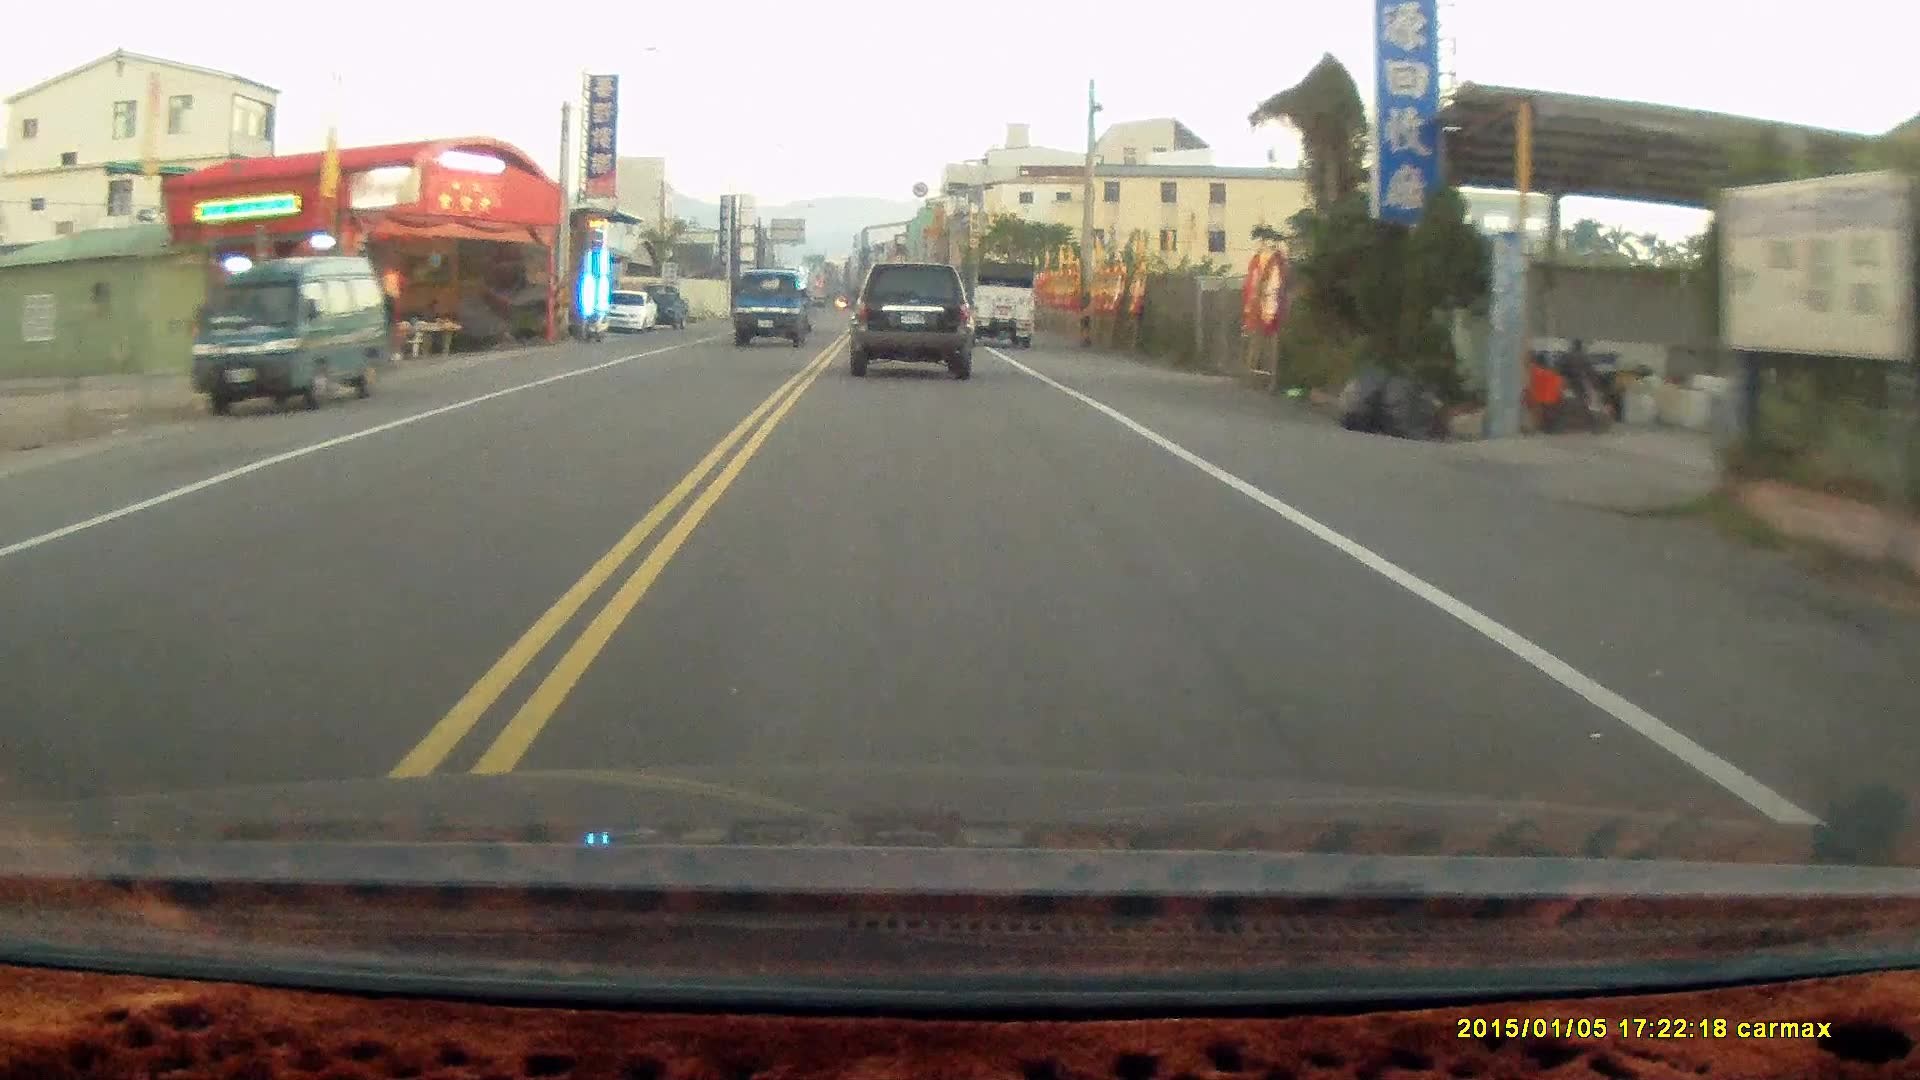vehicle: (196, 255, 392, 423), (851, 266, 975, 381), (944, 258, 1039, 351), (733, 276, 815, 357), (597, 291, 659, 336)
